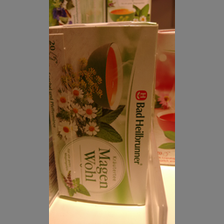tea: (49, 22, 159, 205)
